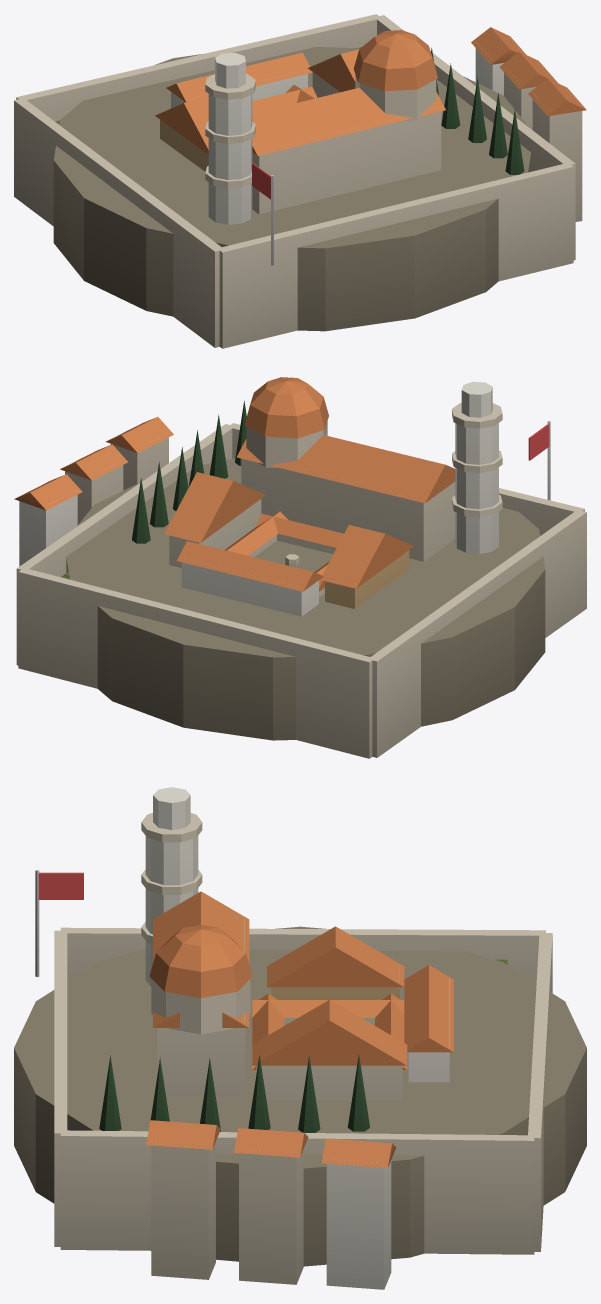
Rendered from abbey_med_b.glb.
The picture shows the model from 3 angles, top to bottom: view 1: azimuth 30°, elevation 25°; view 2: azimuth 150°, elevation 25°; view 3: azimuth 270°, elevation 25°; orthographic projection. The views are drawn at different scales.
Parts seen in each view (by area): view 1: abbey_med_b; view 2: abbey_med_b; view 3: abbey_med_b.
Boxes of the visible parts, left/top/right/bottom form: abbey_med_b: left=14, top=14, right=586, bottom=348; abbey_med_b: left=14, top=377, right=586, bottom=758; abbey_med_b: left=14, top=787, right=586, bottom=1289.
Bounding box in the file's own units: 2.16 × 1.07 × 1.96.
